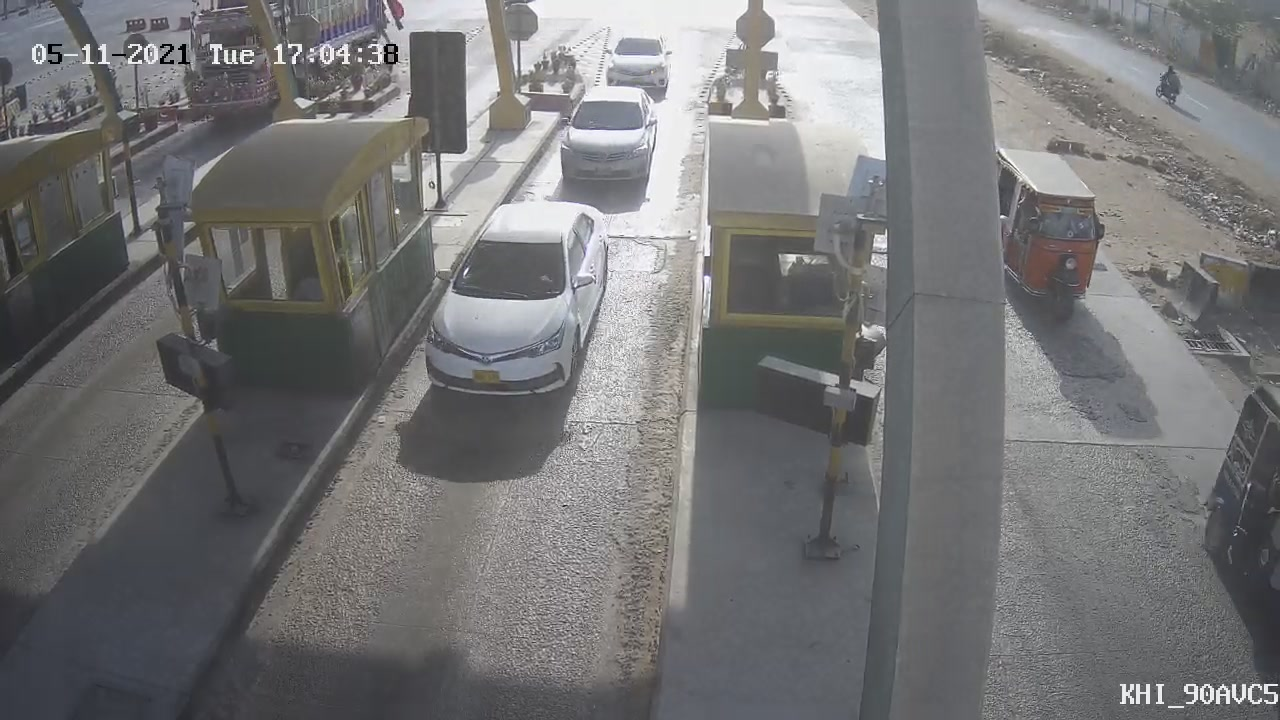F1: (391, 187, 635, 420), (533, 70, 687, 208)
